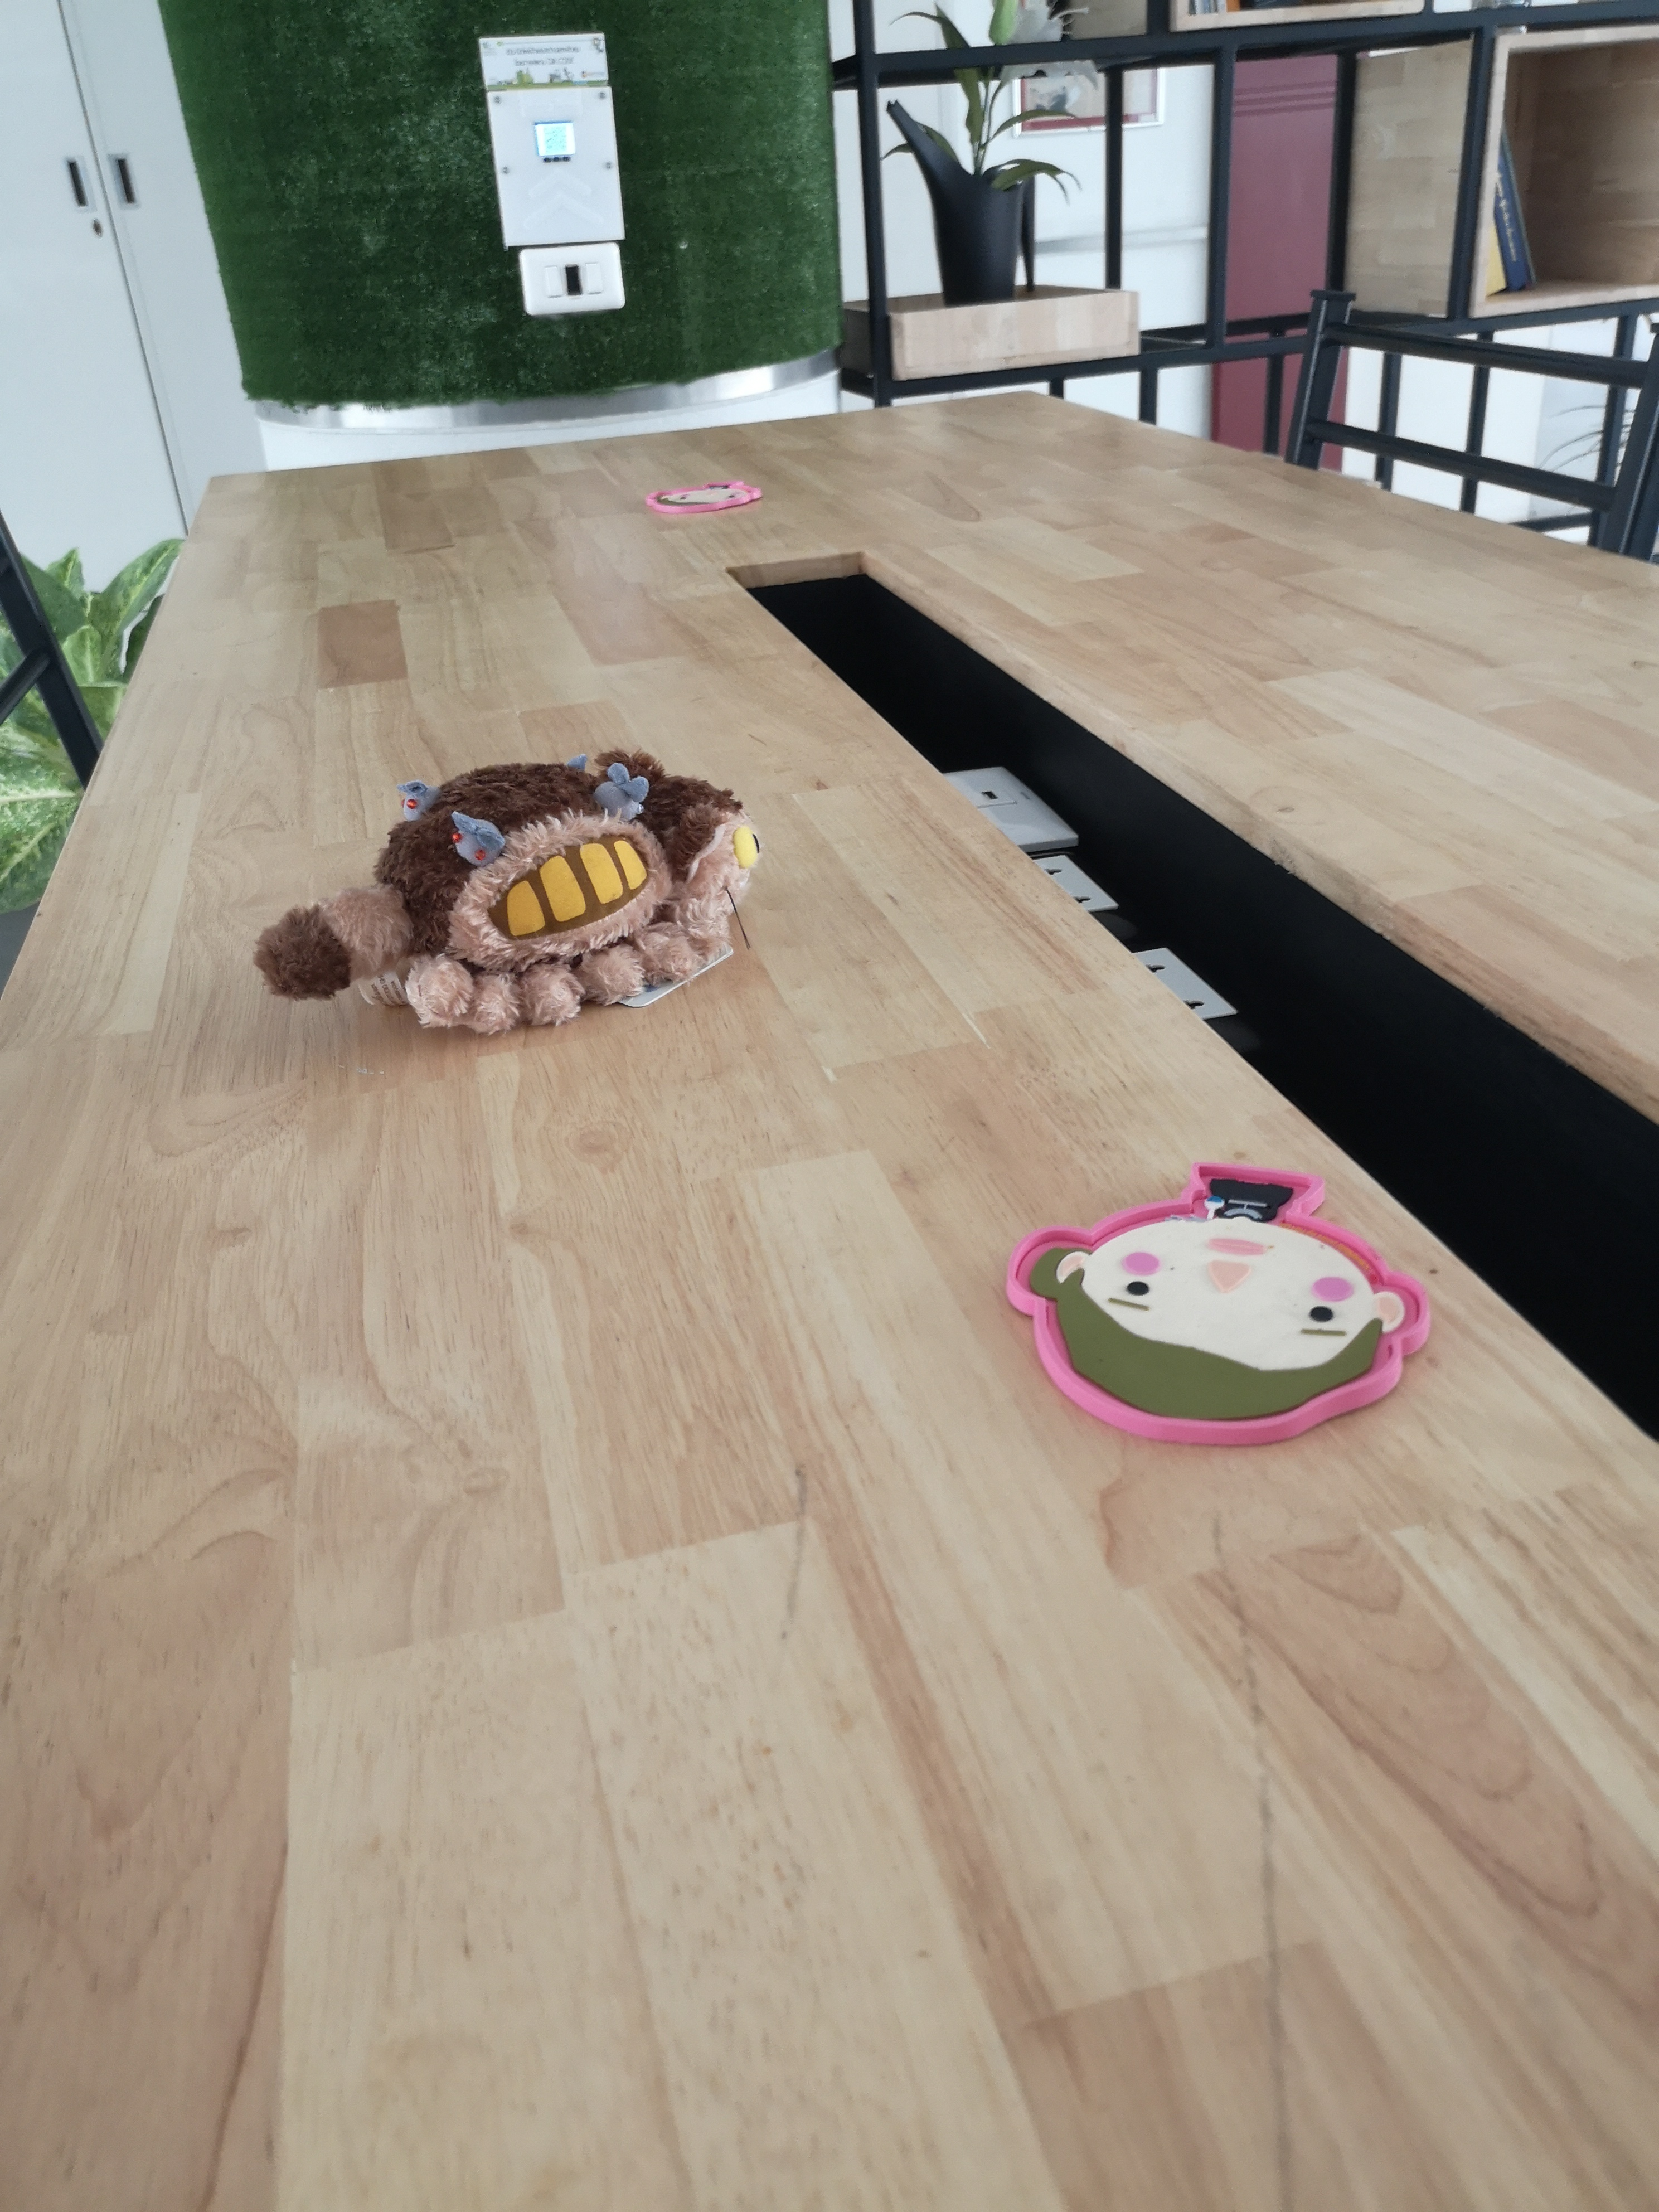nekobus: (242, 738, 784, 1055)
